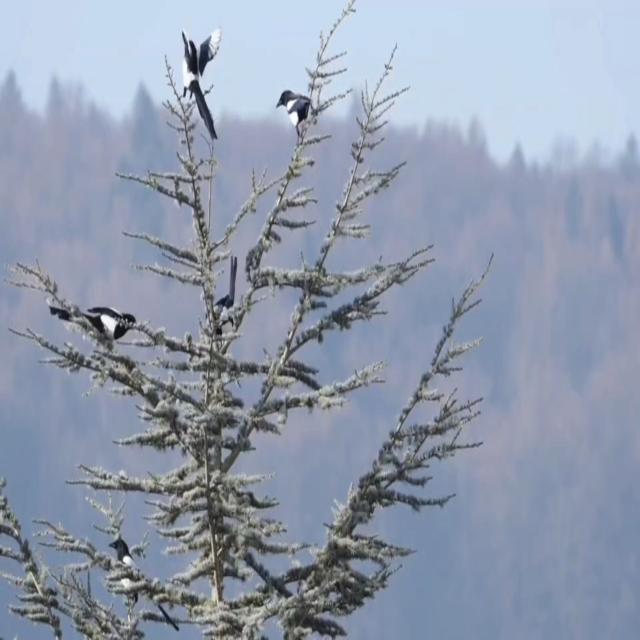bird: (39, 286, 147, 366), (101, 520, 173, 639), (169, 15, 229, 150), (195, 252, 243, 350), (275, 79, 326, 151)
